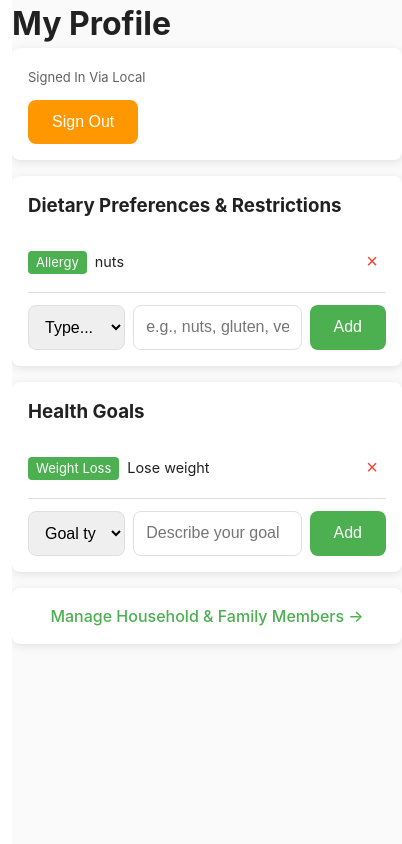
Test: ProfileView › shows error when addPreference fails
Select "Allergy" in the dropdown below "allergy" at coordinates (77, 327), box [28, 305, 125, 350]
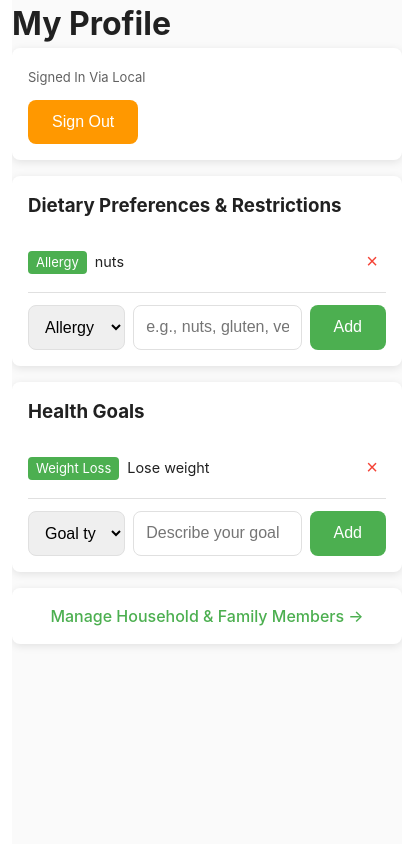
Type "peanuts" into the field with placeholder "e.g., nuts, gluten, vegan" at coordinates (217, 327), box [133, 305, 302, 350]
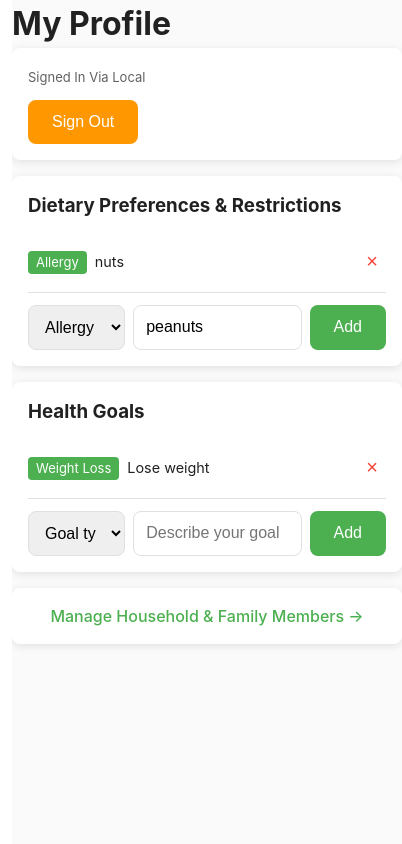
Submit the form with class "add-form" below "allergy", box [28, 305, 386, 350]
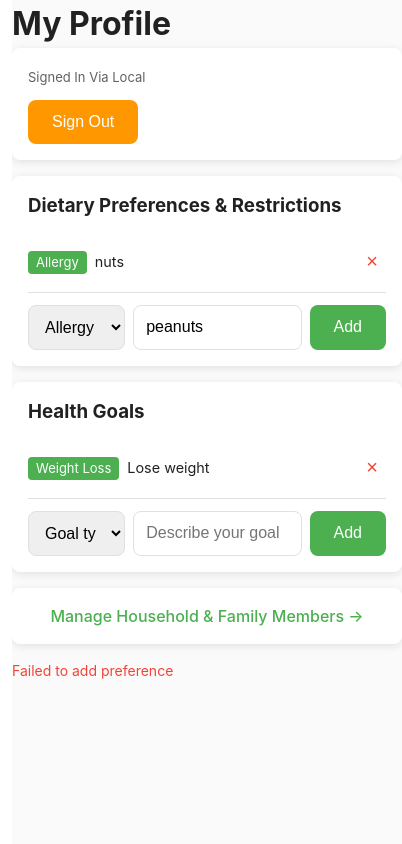
Check: the text with class "error-text" reads "Failed to add preference", box [12, 662, 173, 679]
